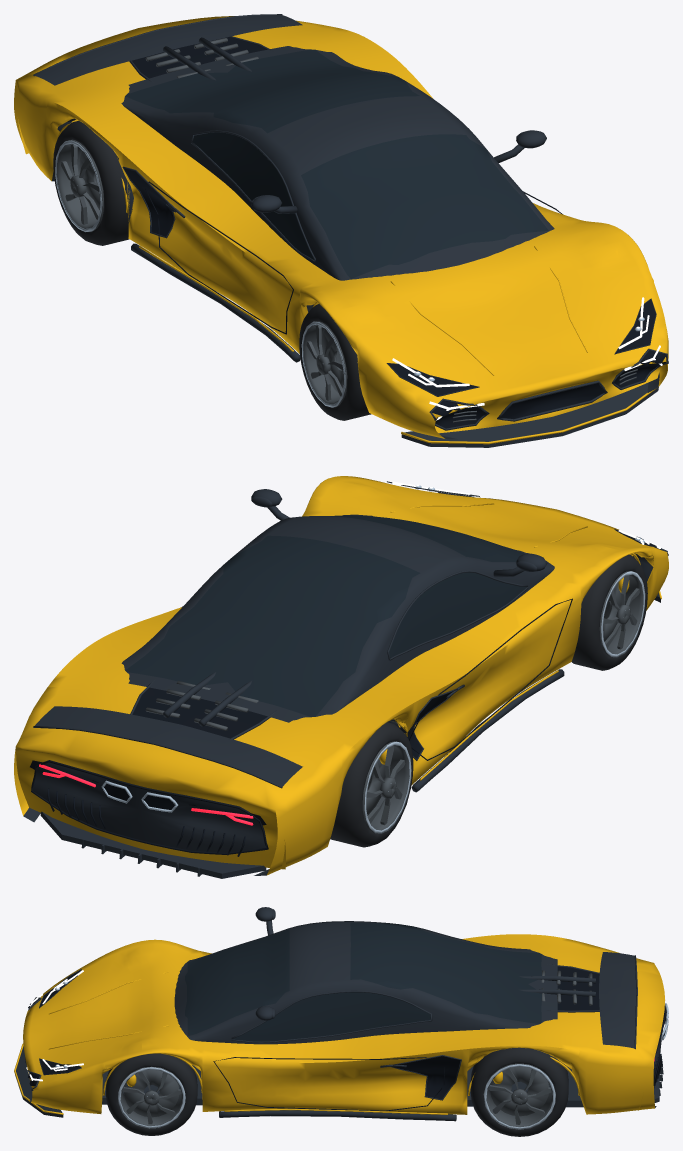
Rendered from Lamborghini.glb.
3 views of the same model, one above another, from view 1: azimuth 30°, elevation 25°; view 2: azimuth 150°, elevation 25°; view 3: azimuth 270°, elevation 25° (orthographic). The views are drawn at different scales.
Visible parts, largest first — view 1: Lamborghini_Body, Wheel_Rear_L, Wheel_Front_L; view 2: Lamborghini_Body, Wheel_Rear_L, Wheel_Front_L; view 3: Lamborghini_Body, Wheel_Rear_R, Wheel_Front_R.
Boxes of the visible parts, left/top/right/bottom form: Lamborghini_Body: left=14, top=14, right=668, bottom=447; Wheel_Rear_L: left=53, top=120, right=129, bottom=245; Wheel_Front_L: left=299, top=304, right=371, bottom=420; Lamborghini_Body: left=14, top=476, right=668, bottom=878; Wheel_Rear_L: left=330, top=722, right=413, bottom=847; Wheel_Front_L: left=571, top=554, right=647, bottom=670; Lamborghini_Body: left=14, top=907, right=668, bottom=1121; Wheel_Rear_R: left=470, top=1047, right=568, bottom=1136; Wheel_Front_R: left=106, top=1053, right=197, bottom=1135.
Size of the model in its own units: 2.13 by 1.16 by 4.95.
